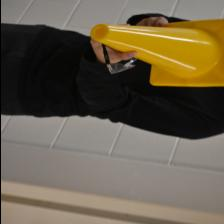cone: (90, 19, 224, 87)
